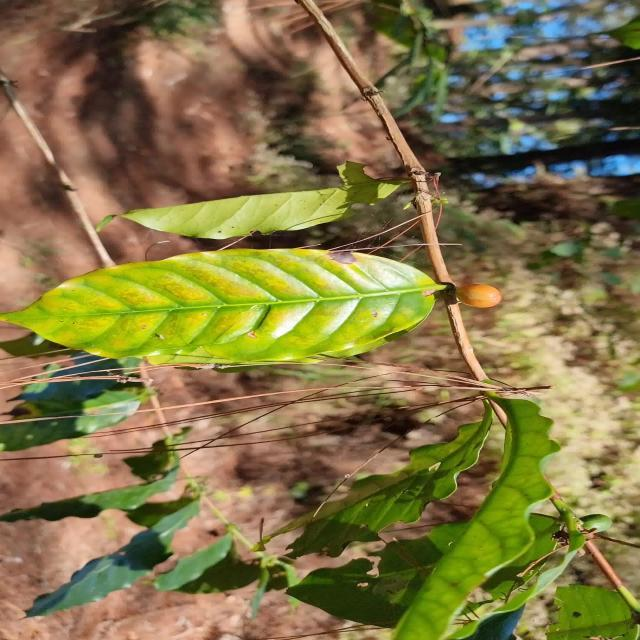leaves: (0, 247, 436, 362)
